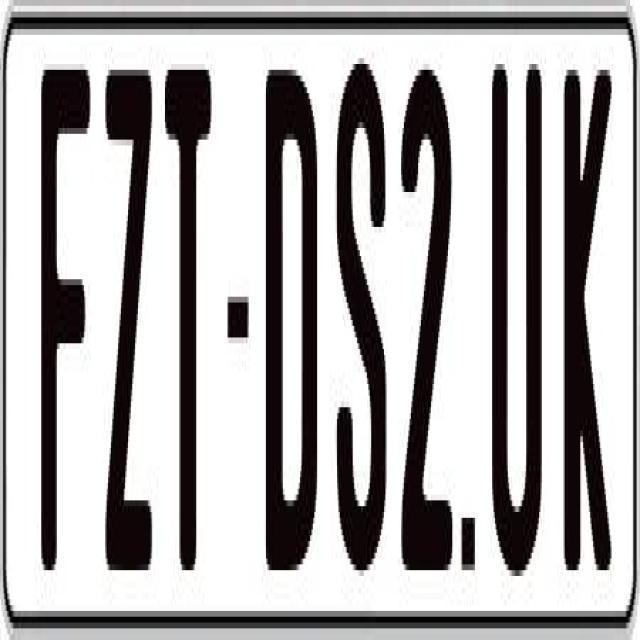2: (400, 64, 456, 576)
D: (262, 52, 316, 582)
F: (40, 70, 94, 606)
K: (562, 58, 613, 594)
S: (337, 47, 391, 571)
T: (164, 53, 210, 559)
U: (488, 64, 538, 582)
Z: (103, 52, 157, 576)
